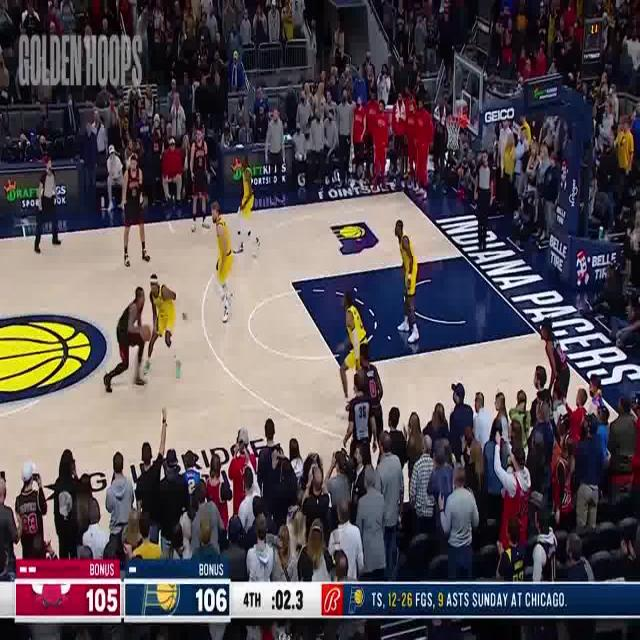ball-handler: (103, 284, 152, 397)
